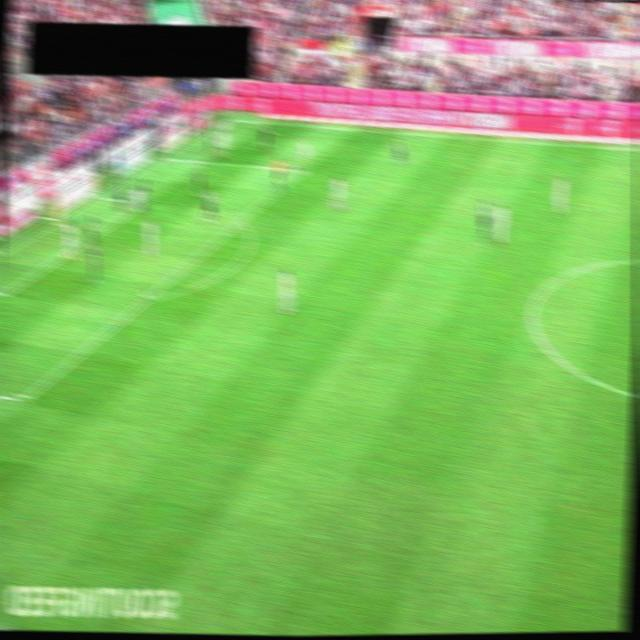bigarea_bottom_inner: (14, 393, 30, 405)
bigarea_top_inner: (292, 163, 308, 176)
bigarea_top_outter: (153, 150, 169, 162)
bottom_arc_area_intersection: (137, 291, 153, 303)
corner: (217, 112, 233, 124)
smallarea_bottom_inner: (0, 285, 12, 297)
smallarea_top_inner: (132, 195, 149, 207)
smallarea_top_outter: (87, 190, 104, 202)
top_arc_area_intersection: (231, 213, 247, 226)
